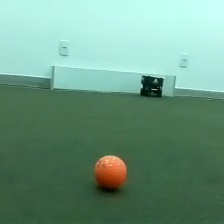ball: (91, 152, 129, 192)
goal: (48, 64, 177, 99)
robot: (139, 72, 164, 99)
